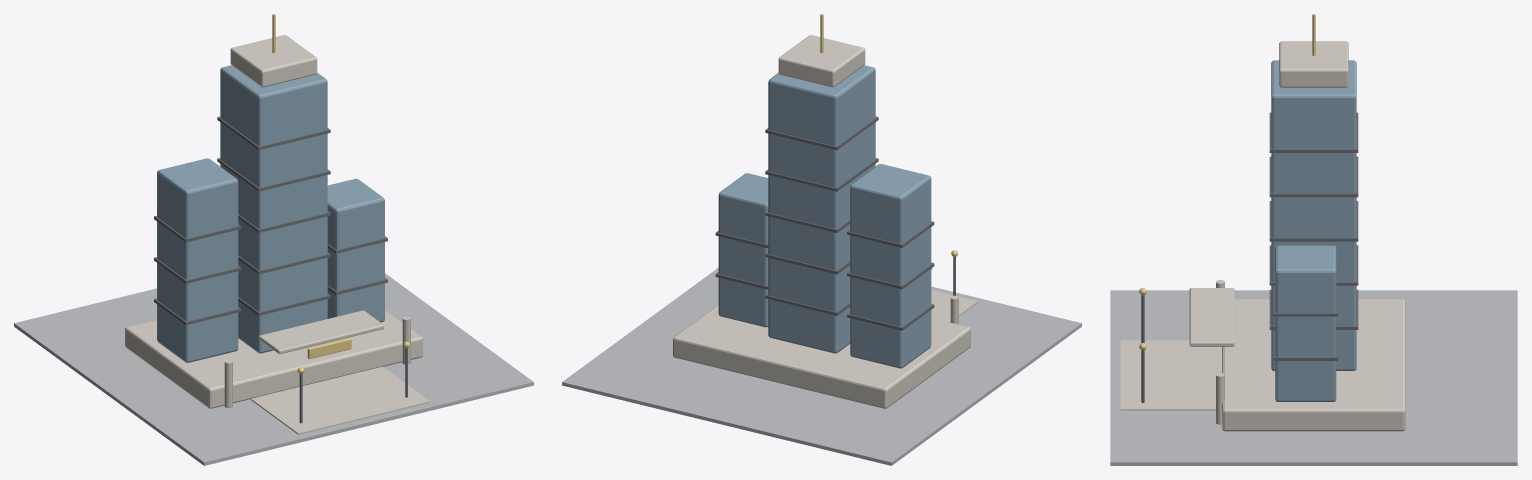
Rendered from finance.glb.
The picture shows the model from 3 angles, left to right: view 1: azimuth 30°, elevation 25°; view 2: azimuth 150°, elevation 25°; view 3: azimuth 270°, elevation 25°; orthographic projection. The views are drawn at different scales.
Parts seen in each view (by area): view 1: Ground, TowerA, TowerB, Podium, TowerC, Plaza, Crown, Canopy, Sign; view 2: Ground, TowerA, TowerB, Podium, TowerC, Crown, Plaza; view 3: Ground, TowerA, Podium, TowerC, Plaza, Crown, Canopy, TowerA_band4, TowerA_band3, TowerA_band5.
Part boxes in pixels (x1,y1,x2,y2): Ground: (14,273,533,465); TowerA: (220,65,327,353); TowerB: (157,158,238,362); Podium: (125,310,422,408); TowerC: (327,178,384,322); Plaza: (251,366,430,434); Crown: (230,35,317,87); Canopy: (258,310,384,354); Sign: (307,338,351,359); Ground: (562,268,1081,465); TowerA: (768,65,875,353); TowerB: (850,164,931,368); Podium: (673,304,970,408); TowerC: (718,173,768,327); Crown: (778,35,865,87); Plaza: (931,290,978,322); Ground: (1110,290,1517,465); TowerA: (1271,60,1356,370); Podium: (1222,299,1405,431); TowerC: (1275,245,1336,401); Plaza: (1120,340,1222,410); Crown: (1279,41,1348,87); Canopy: (1189,288,1234,346); TowerA_band4: (1269,156,1358,197); TowerA_band3: (1269,201,1358,241); TowerA_band5: (1269,112,1358,152).
Bounding box in the file's own units: 20 × 19.8 × 20.
